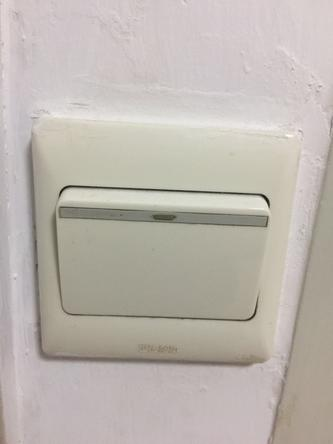switch: (54, 143, 277, 356)
